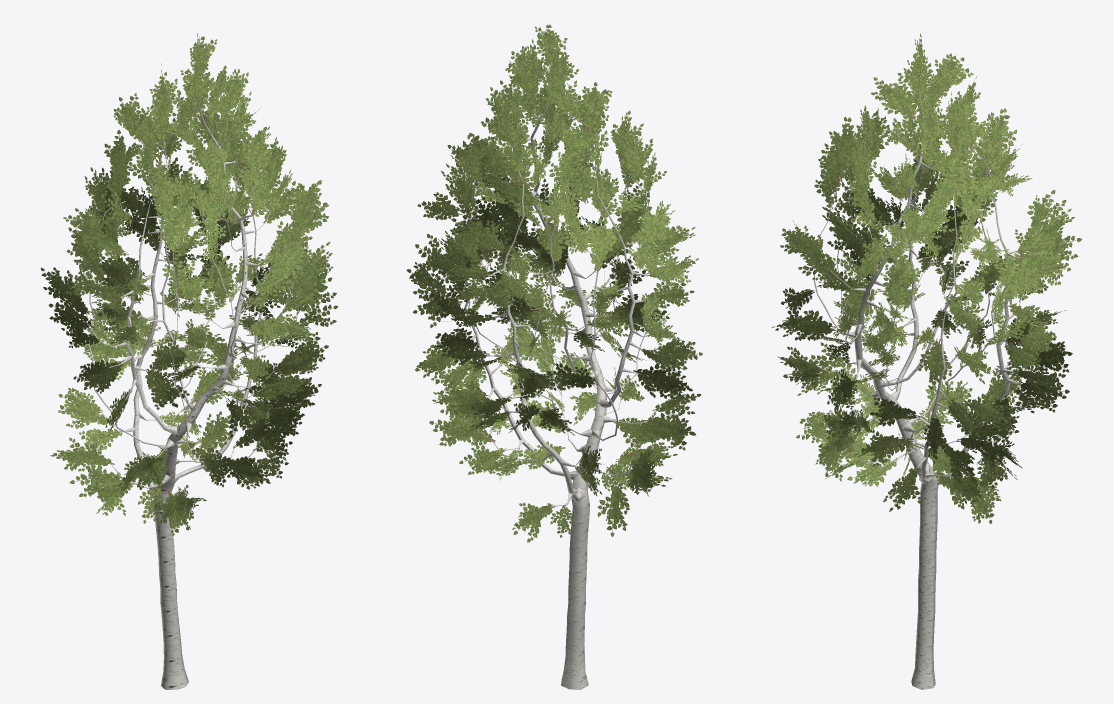
File: Scenery_Birch_V2.fbx
3 views of the same model, side by side, from view 1: azimuth 30°, elevation 25°; view 2: azimuth 150°, elevation 25°; view 3: azimuth 270°, elevation 25° (orthographic). The views are drawn at different scales.
Parts seen in each view (by area): view 1: Scenery_Birch_V2_LOD0; view 2: Scenery_Birch_V2_LOD0; view 3: Scenery_Birch_V2_LOD0.
Boxes of the visible parts, bbox=[...] form: Scenery_Birch_V2_LOD0: bbox=[40, 33, 338, 689]; Scenery_Birch_V2_LOD0: bbox=[406, 24, 702, 689]; Scenery_Birch_V2_LOD0: bbox=[771, 33, 1081, 689].
Size of what is drawn, in the model's own units: 7.8 by 16.49 by 7.69.
